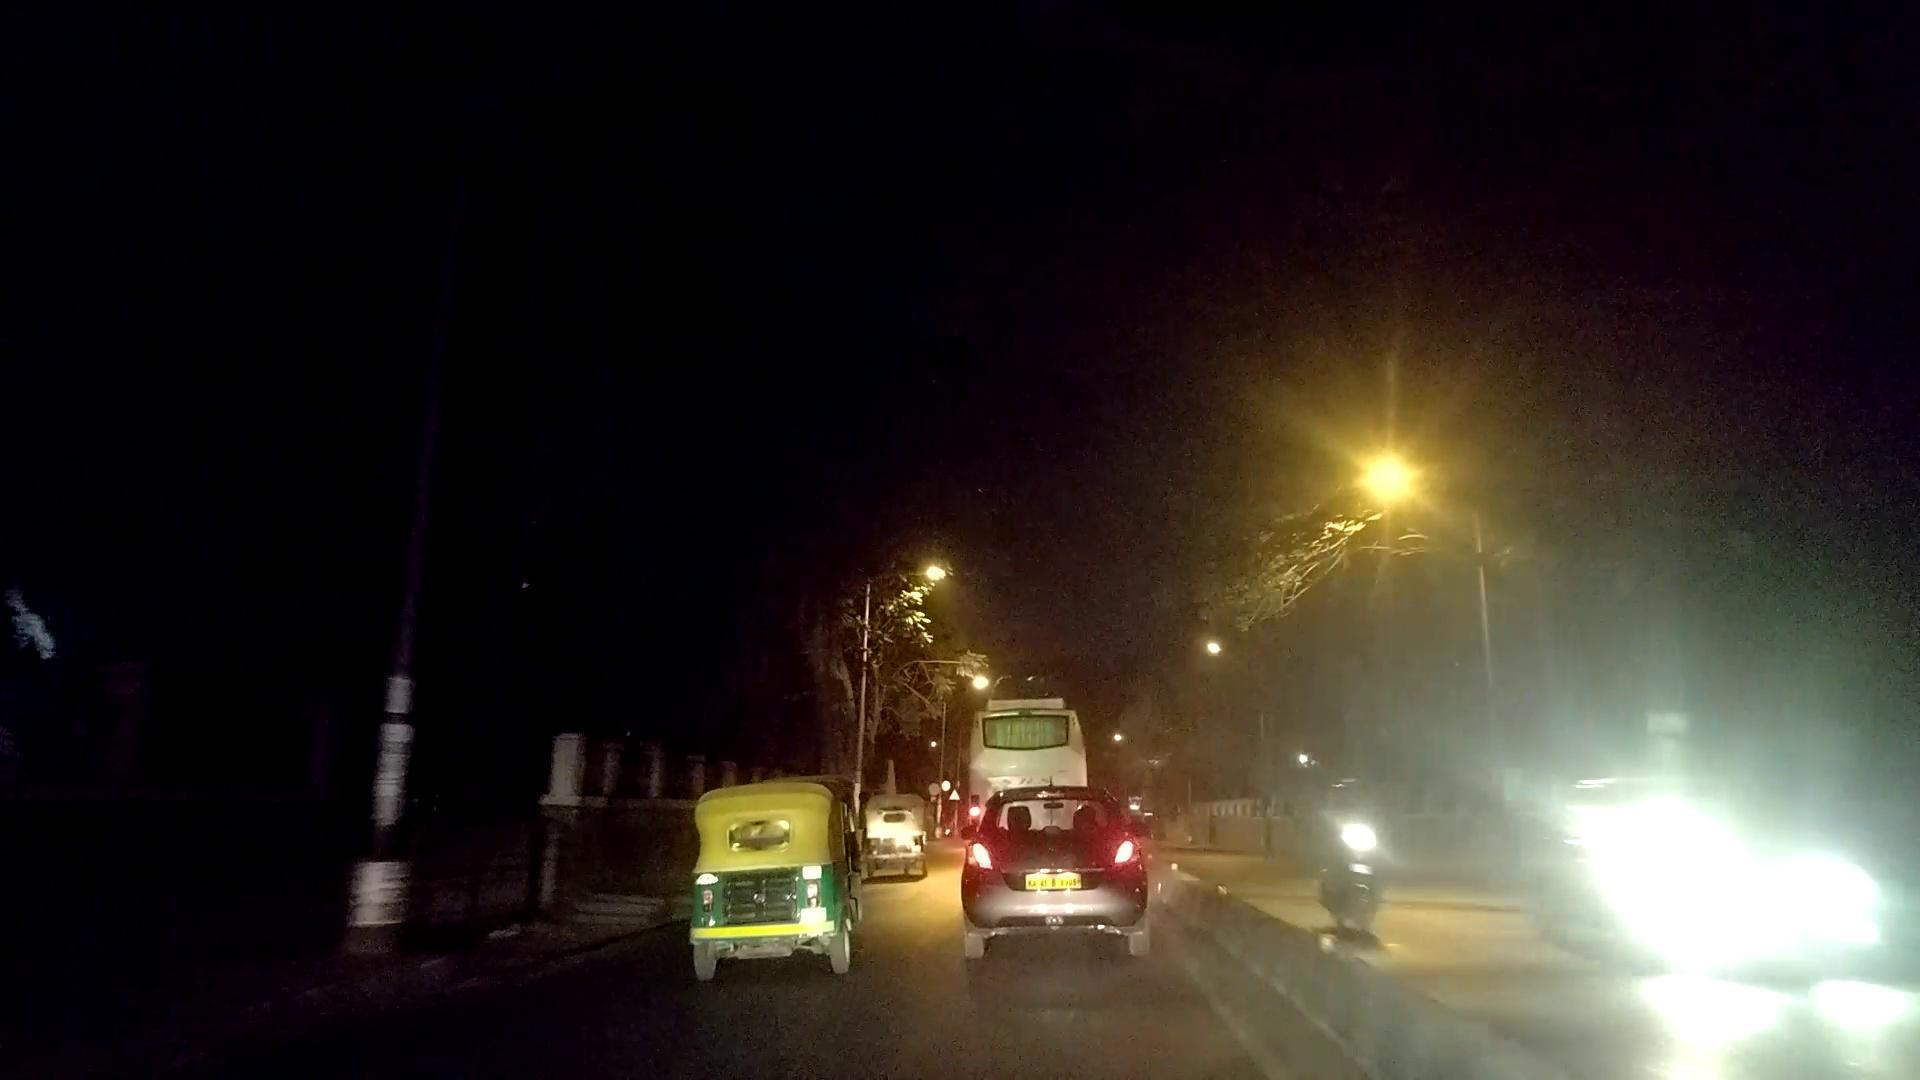on: (1189, 322, 1655, 699)
